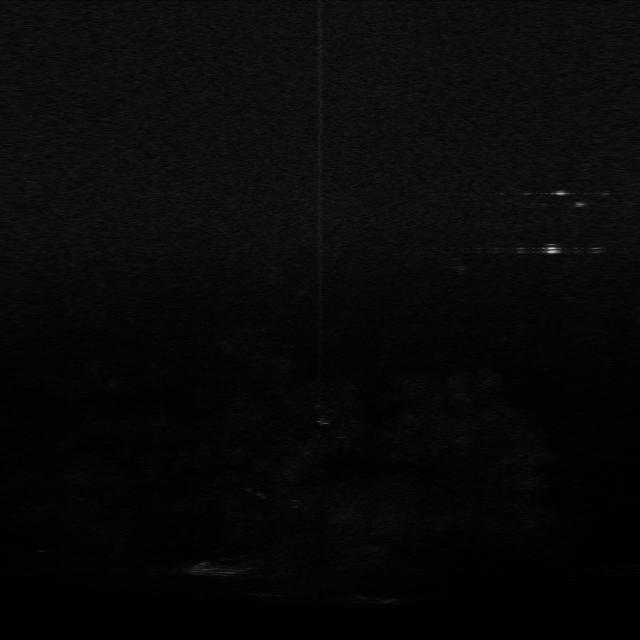rov: (542, 242, 563, 257)
